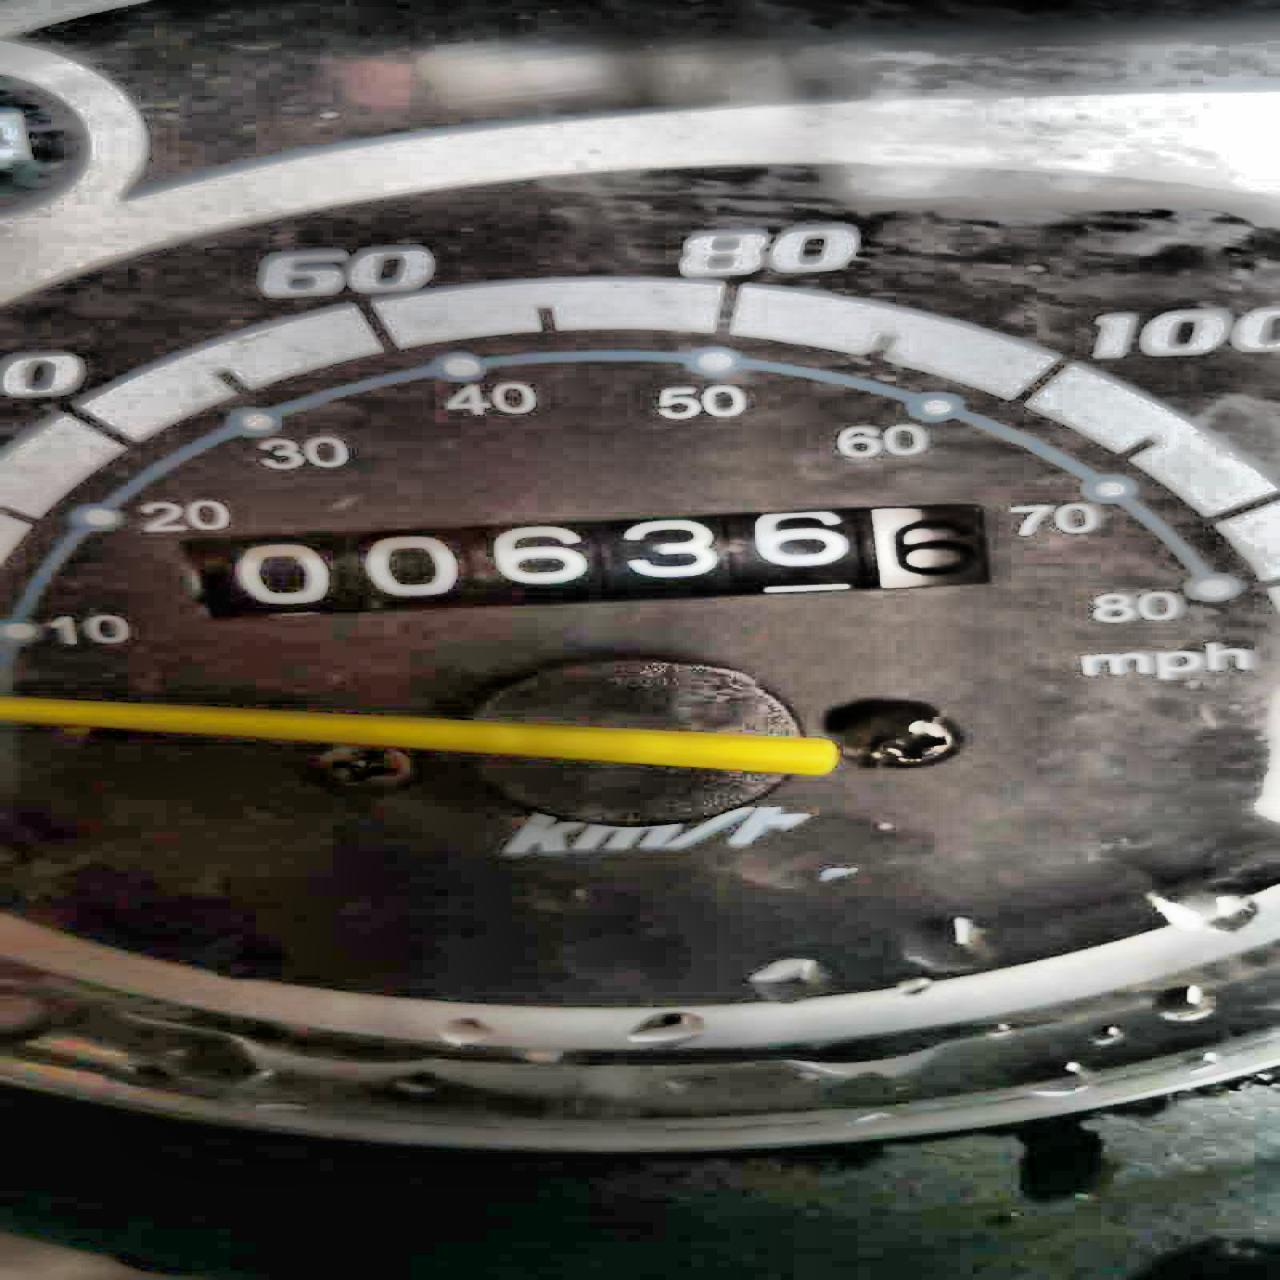0: (225, 540, 334, 607), (354, 532, 463, 598), (184, 499, 230, 531)
3: (617, 518, 722, 579)
6: (485, 523, 592, 586), (742, 511, 856, 566), (881, 516, 985, 576)
odometer: (175, 497, 1007, 626)
